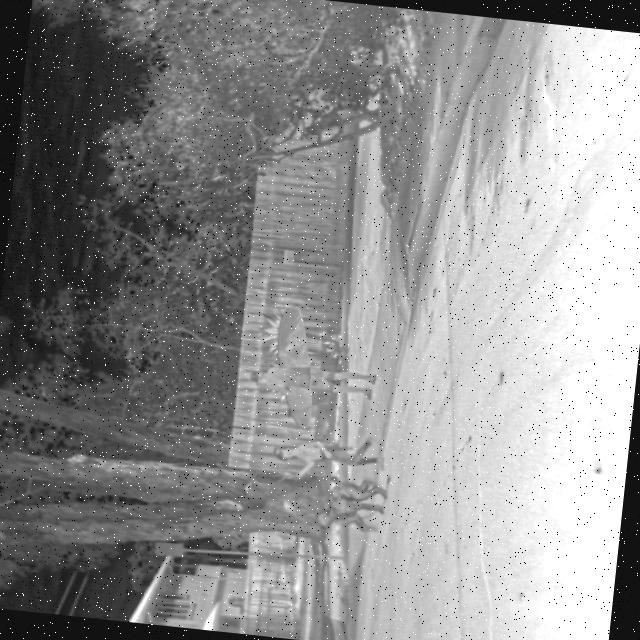Pedestrian: (272, 428, 386, 485), (248, 358, 378, 401)
